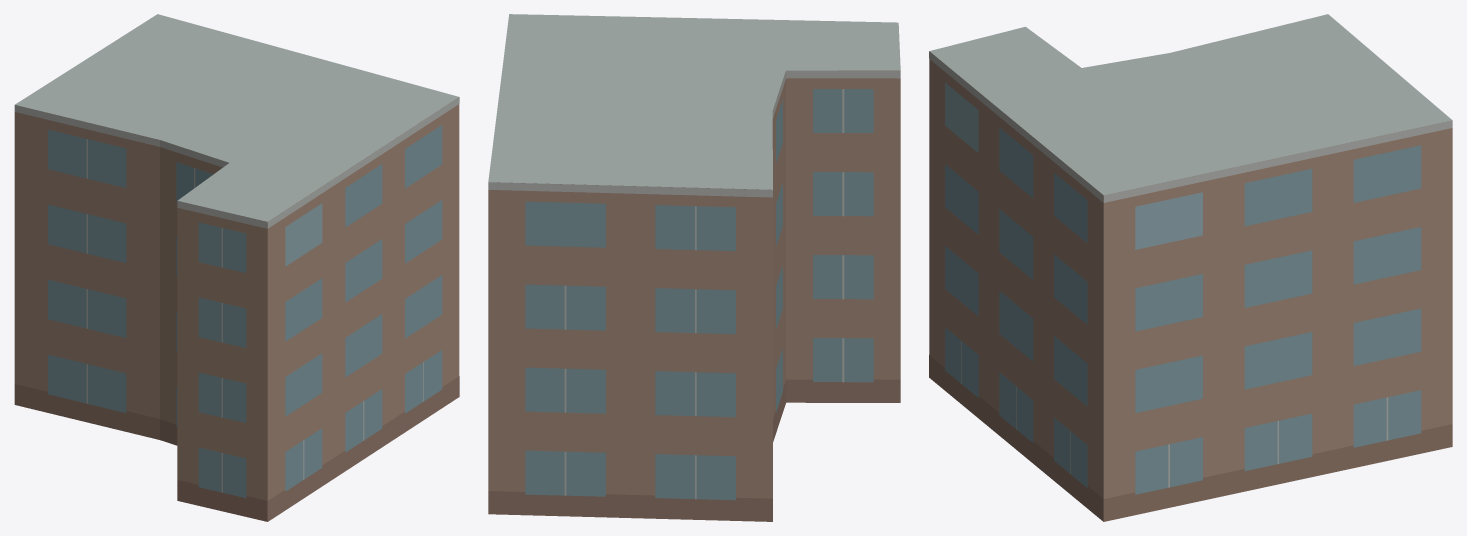
Rendered from survey-upis-33039611.glb.
3 views of the same model, side by side, from view 1: azimuth 30°, elevation 25°; view 2: azimuth 150°, elevation 25°; view 3: azimuth 270°, elevation 25° (orthographic). The views are drawn at different scales.
Visible parts, largest first — view 1: survey-upis-33039611.tmp; view 2: survey-upis-33039611.tmp; view 3: survey-upis-33039611.tmp.
Part boxes in pixels (bbox=[...]): survey-upis-33039611.tmp: bbox=[14, 14, 459, 521]; survey-upis-33039611.tmp: bbox=[488, 14, 900, 521]; survey-upis-33039611.tmp: bbox=[929, 14, 1452, 521].
Size of the model in its own units: 12.52 by 10.5 by 15.27.
